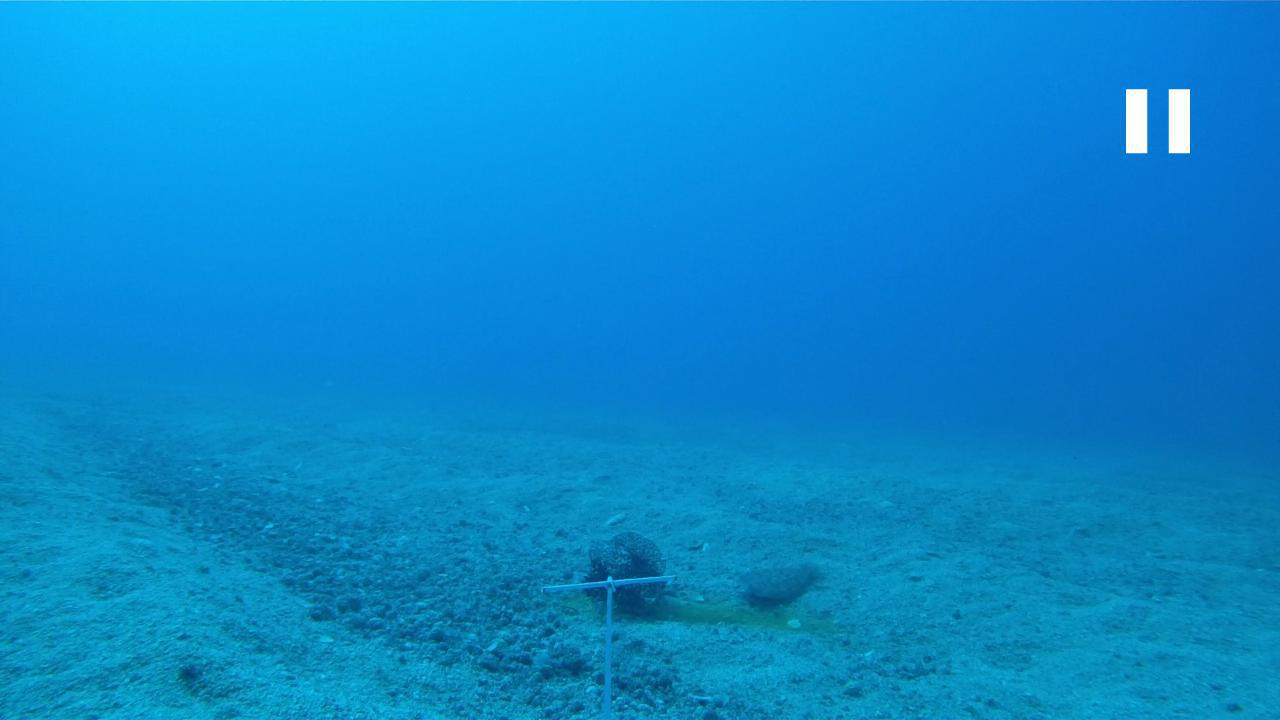bothus: (730, 562, 818, 602)
